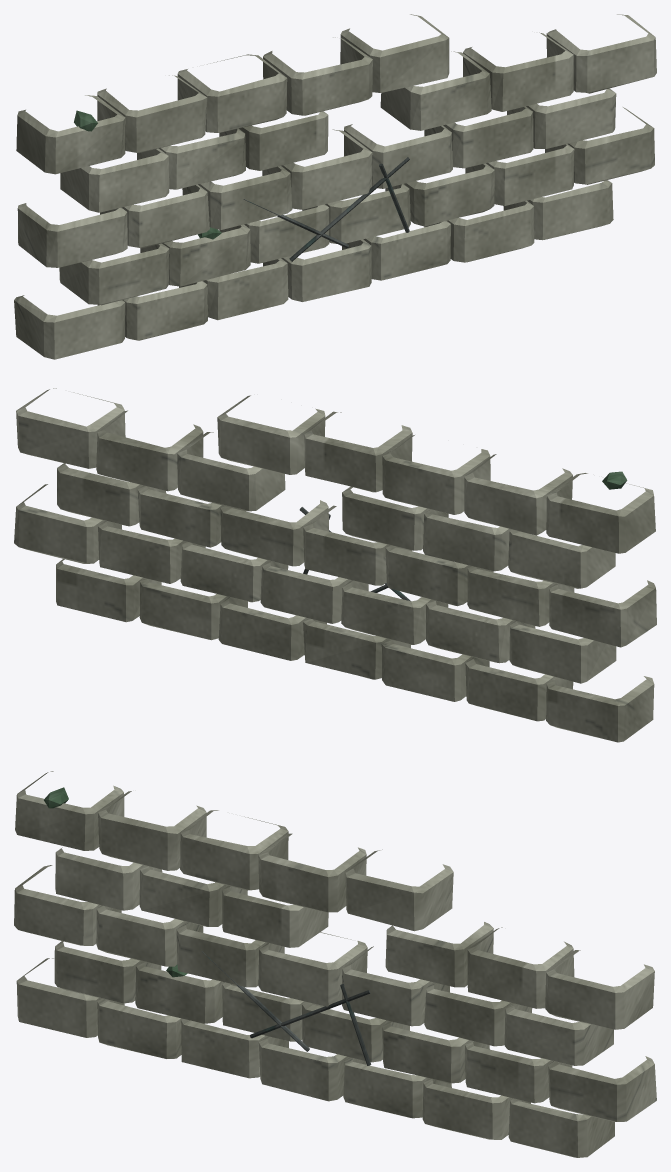
The model's file is 0336_wall_section_11.glb.
3 renders of one model, top to bottom at view 1: azimuth 30°, elevation 25°; view 2: azimuth 150°, elevation 25°; view 3: azimuth 330°, elevation 25°, orthographic.
Parts seen in each view (by area): view 1: stone_light, iron, moss; view 2: stone_light; view 3: stone_light, iron.
Boxes of the visible parts, box(x1,y1,x2,y2) form: stone_light: box(14, 14, 656, 359); iron: box(243, 157, 409, 261); moss: box(74, 110, 221, 239); stone_light: box(14, 388, 656, 742); stone_light: box(14, 771, 656, 1157); iron: box(202, 951, 371, 1065).
Size of the model in its own units: 5.21 by 1.93 by 0.598.
Materials: 3 (3 with a texture image).
